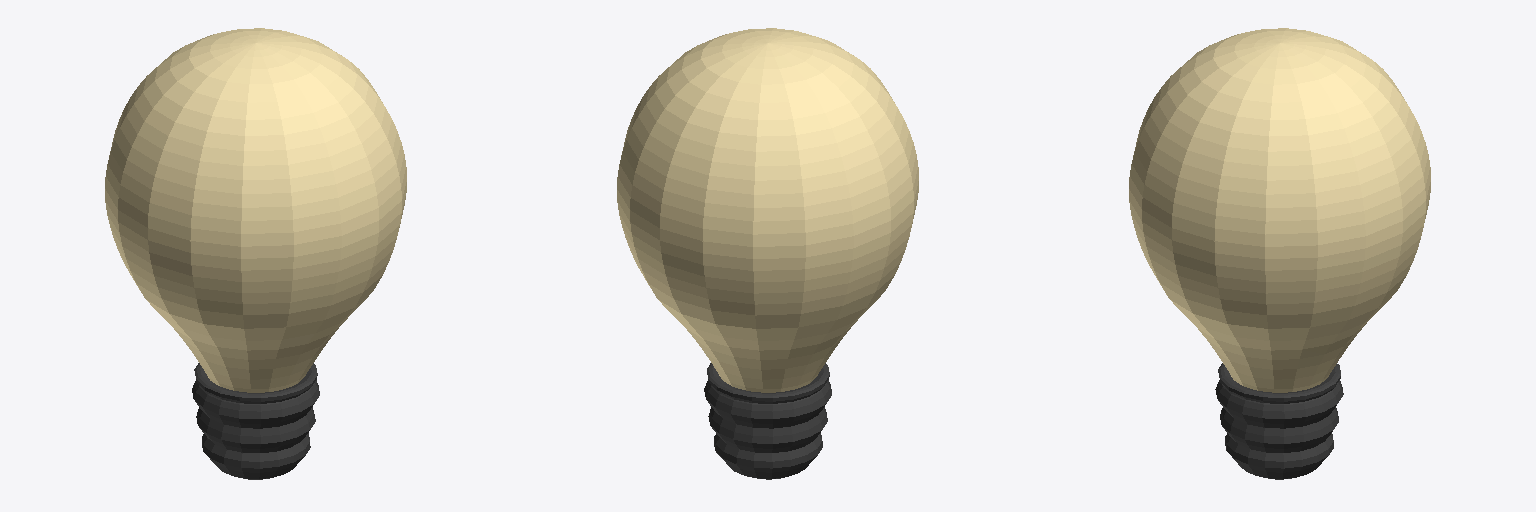
Rendered from Bulb.obj.
3 renders of one model, left to right at view 1: azimuth 30°, elevation 25°; view 2: azimuth 150°, elevation 25°; view 3: azimuth 270°, elevation 25°, orthographic.
Parts seen in each view (by area): view 1: objBulb; view 2: objBulb; view 3: objBulb.
Part boxes in pixels (bbox=[...]): objBulb: bbox=[105, 28, 406, 479]; objBulb: bbox=[617, 28, 918, 479]; objBulb: bbox=[1129, 28, 1430, 479].
Size of the model in its own units: 4.58 by 7.13 by 4.59.